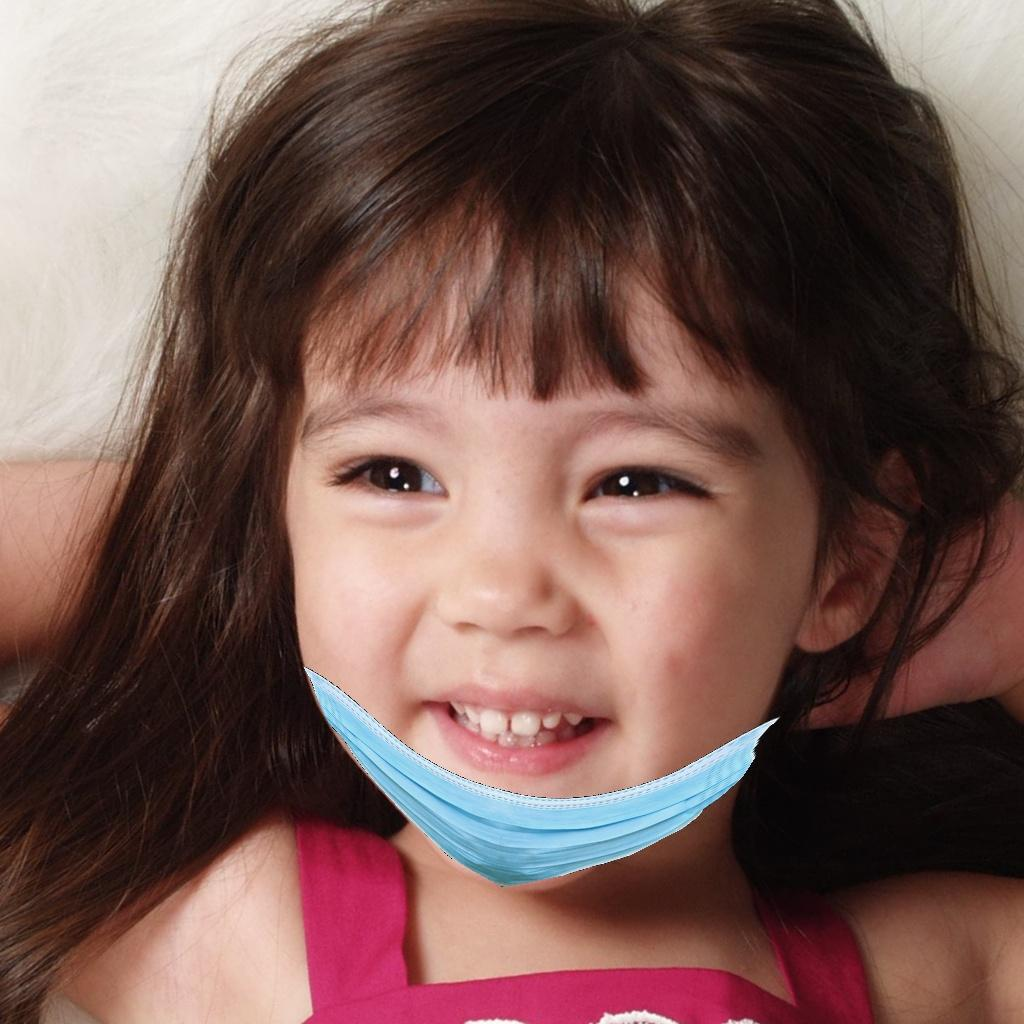Máscara Incorreta: (319, 295, 787, 872)
